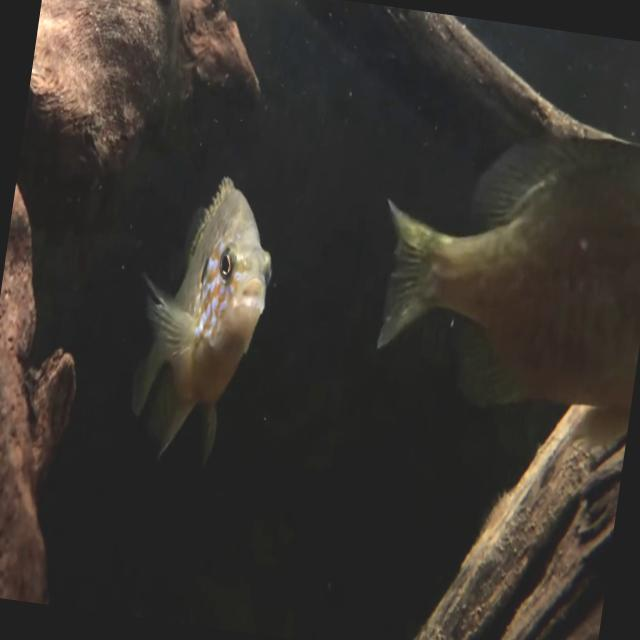Gunes Levregi: (360, 98, 640, 441), (116, 164, 286, 473)
